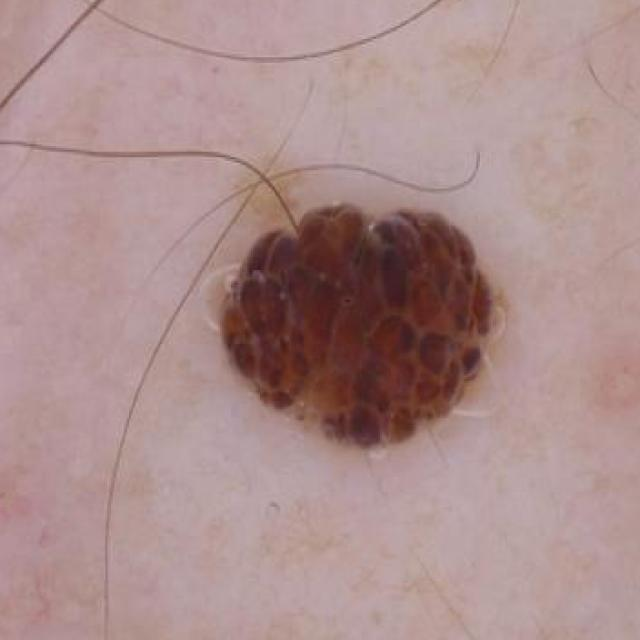NV: (218, 156, 521, 464)
